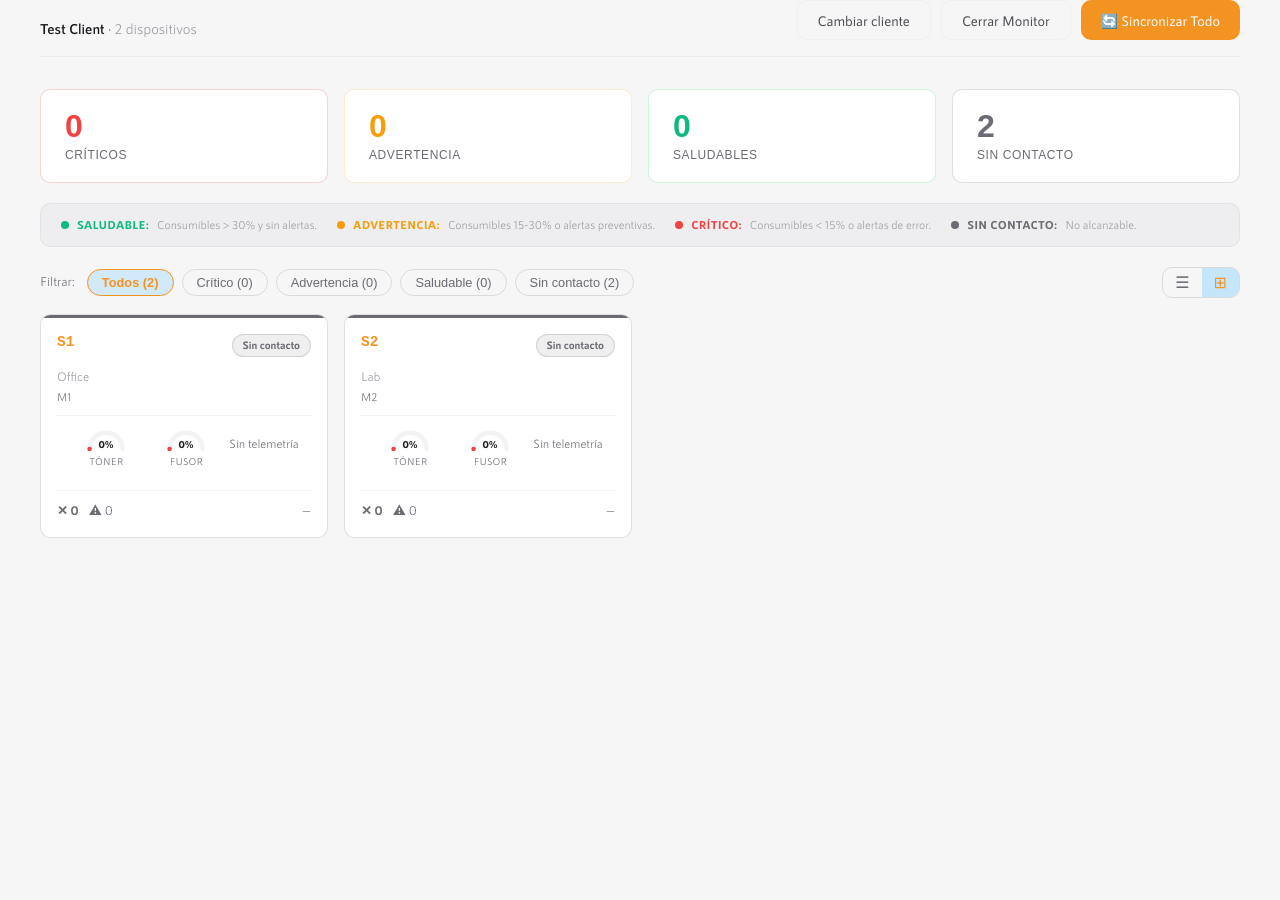
MonitorDashboard › expands device row on click
Expected: the link "S1" is shown, [57,334,74,351]
Click the button "🔄 Sincronizar Todo" at (1160, 20), box [1081,0,1240,40]
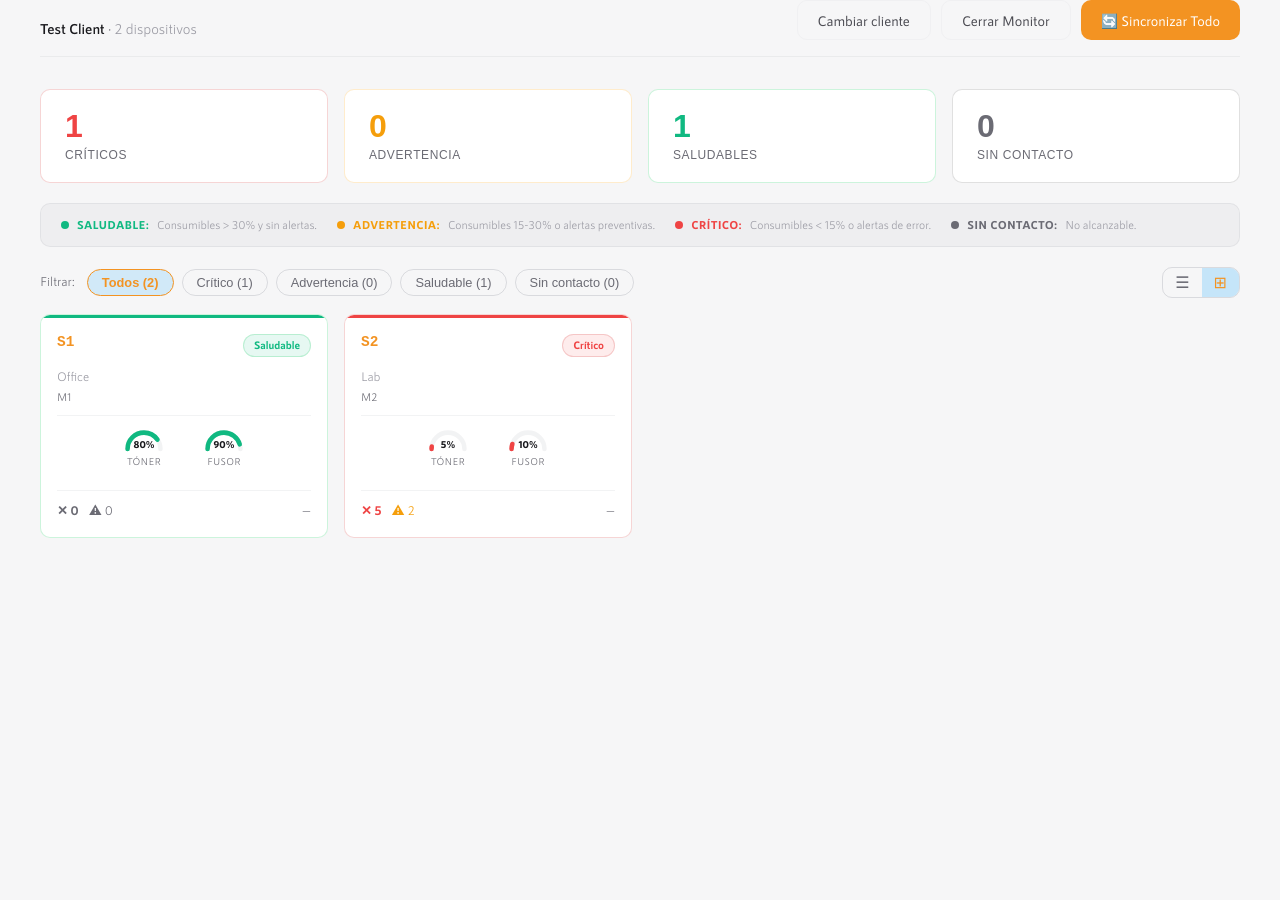
Now the text "Saludable" is shown, box [243,334,311,357]
Now expand
Click the text "Office" at (73, 376), box [57,369,89,383]
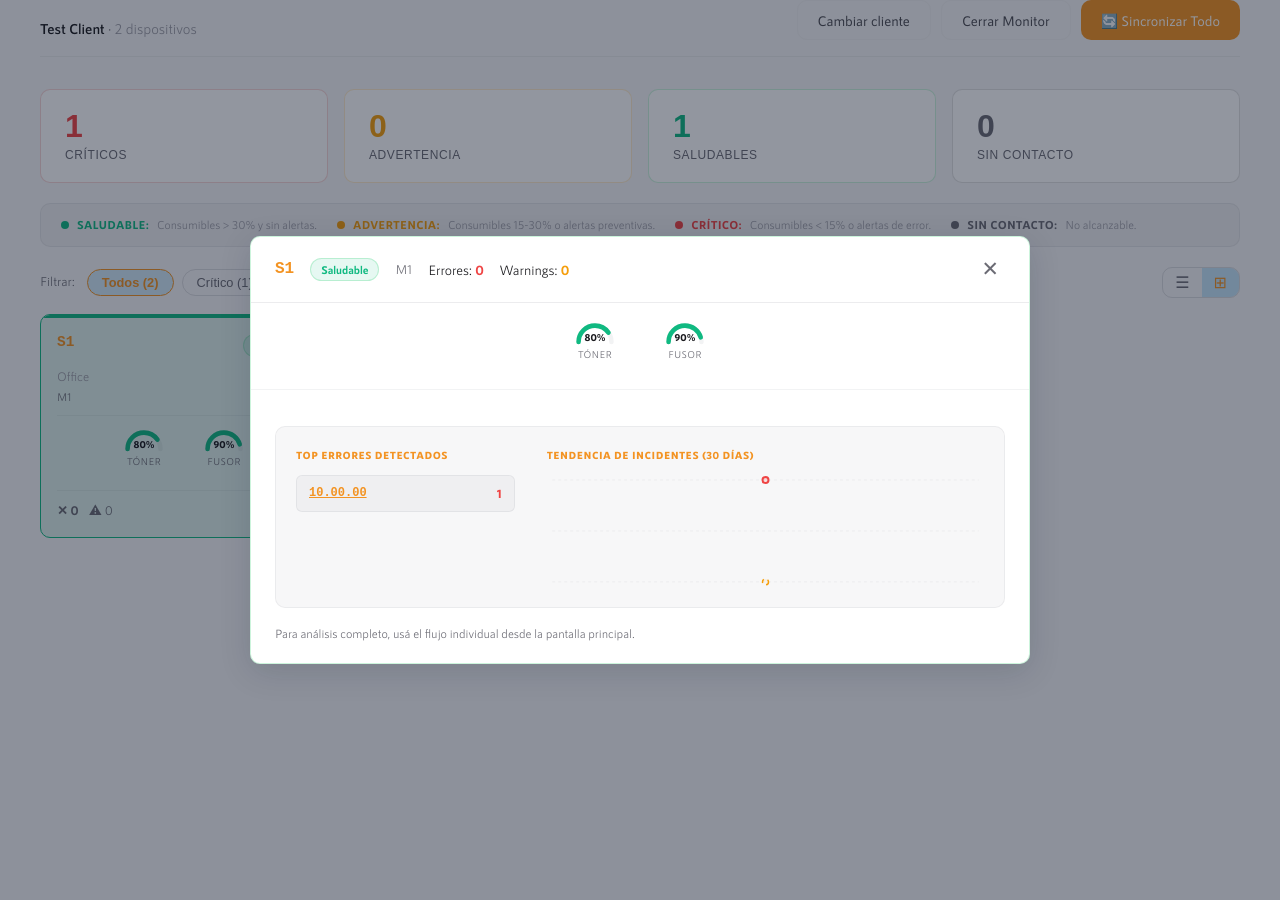
Now the text "análisis completo" is shown, box [275,626,635,640]
